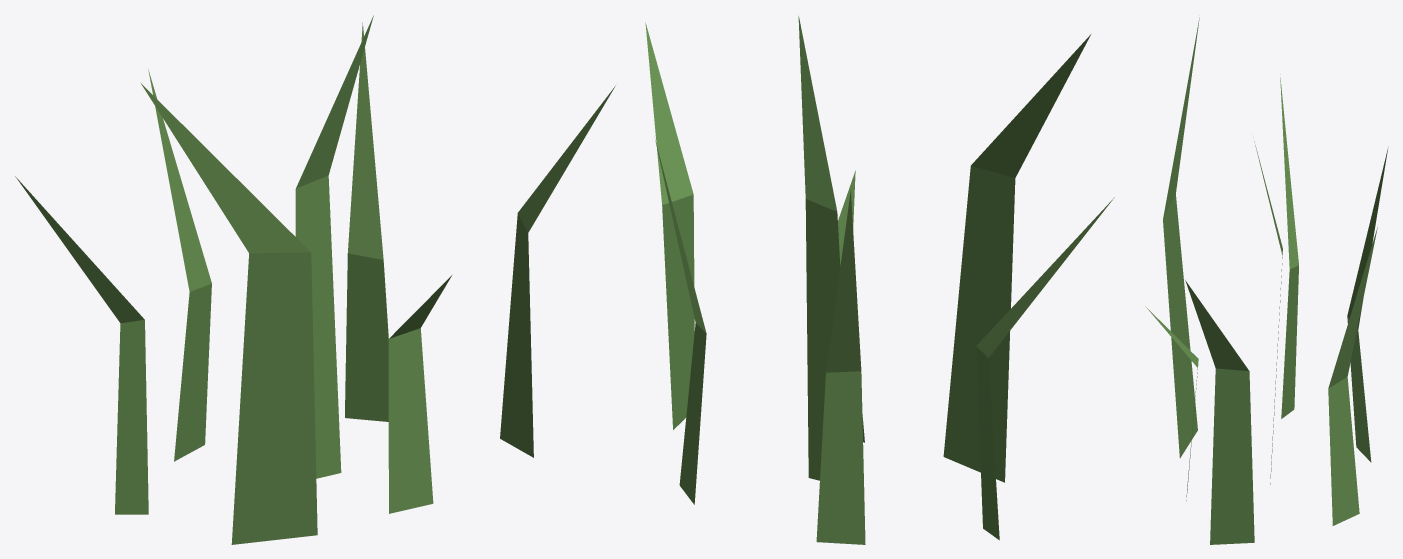
The model's file is grass.fbx.
3 views of the same model, side by side, from view 1: azimuth 30°, elevation 25°; view 2: azimuth 150°, elevation 25°; view 3: azimuth 270°, elevation 25° (orthographic). The views are drawn at different scales.
Parts seen in each view (by area): view 1: grass; view 2: grass; view 3: grass.
Part boxes in pixels (box(x1,y1,x2,y2)): grass: box(15, 15, 615, 544); grass: box(645, 16, 1114, 544); grass: box(1145, 17, 1388, 544).
Bounding box in the file's own units: 49.98 × 42.7 × 24.74.
